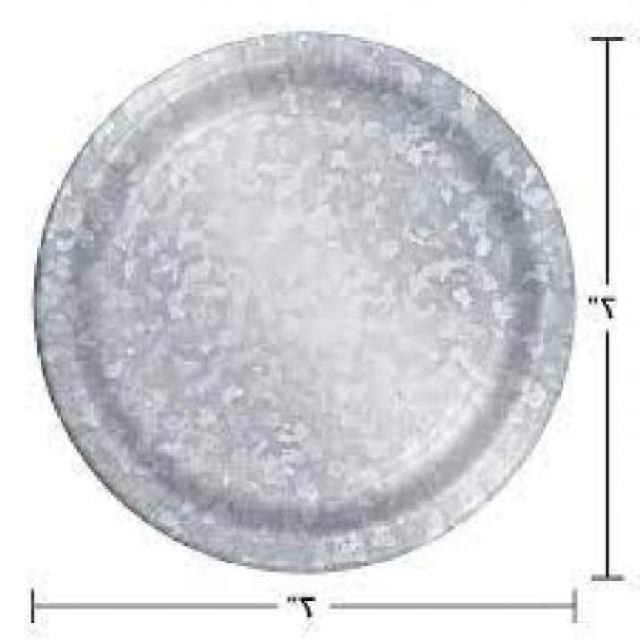METAL: (37, 29, 580, 572)
